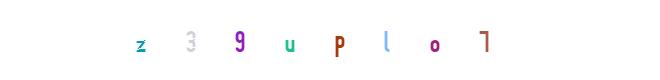3: (200, 0, 280, 80)
7: (432, 0, 512, 80)
9: (269, 0, 349, 80)
L: (299, 0, 379, 80)
O: (394, 0, 474, 80)
P: (290, 0, 370, 80)
U: (273, 0, 353, 80)
Z: (181, 0, 261, 80)
